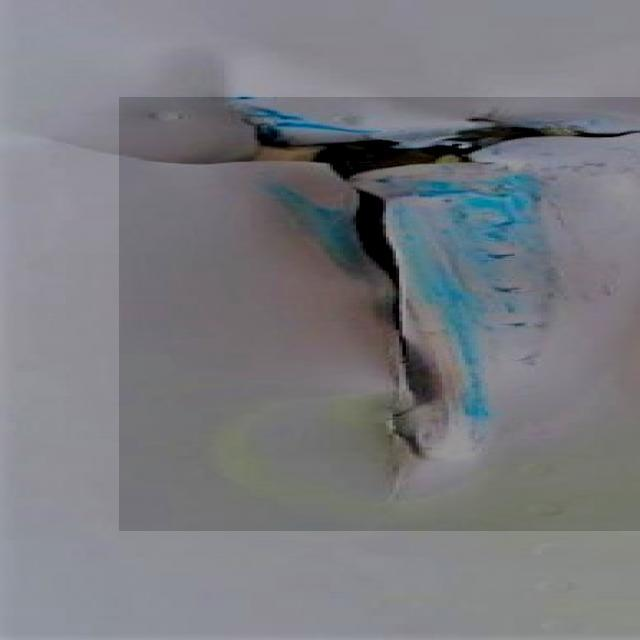crack: (120, 98, 640, 532)
